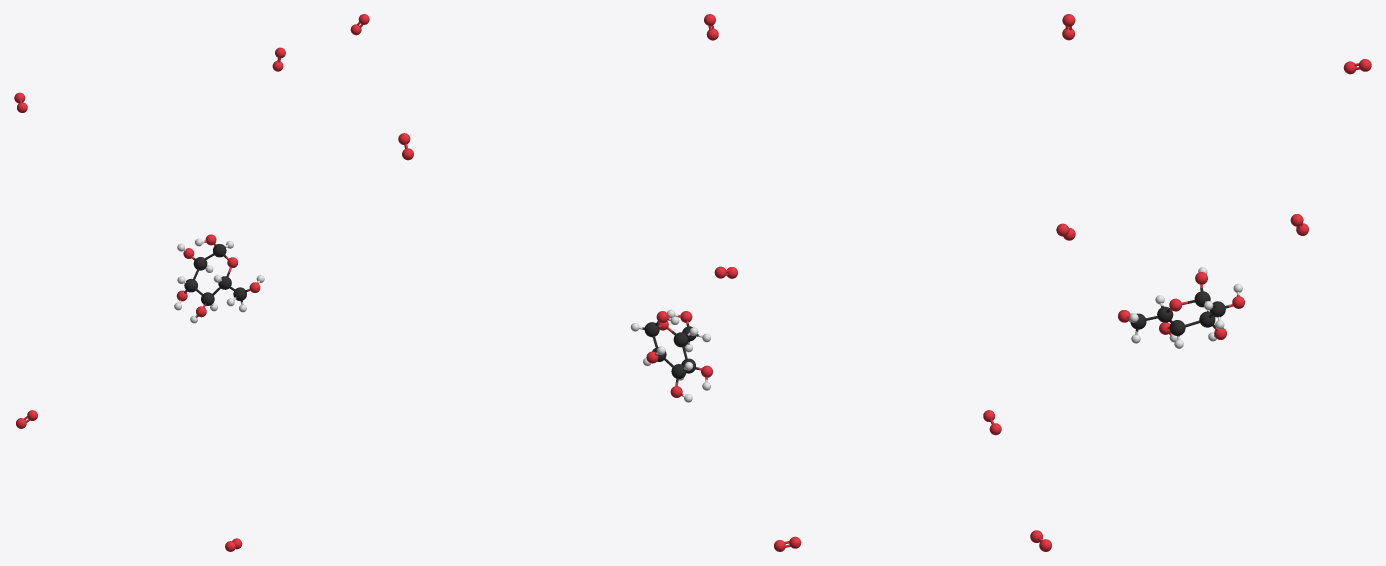
File: breakGlucoseAnim1.glb
3 renders of one model, left to right at view 1: azimuth 30°, elevation 25°; view 2: azimuth 150°, elevation 25°; view 3: azimuth 270°, elevation 25°, orthographic. The views are drawn at different scales.
Size of the model in its own units: 94.82 by 97.02 by 52.9.
